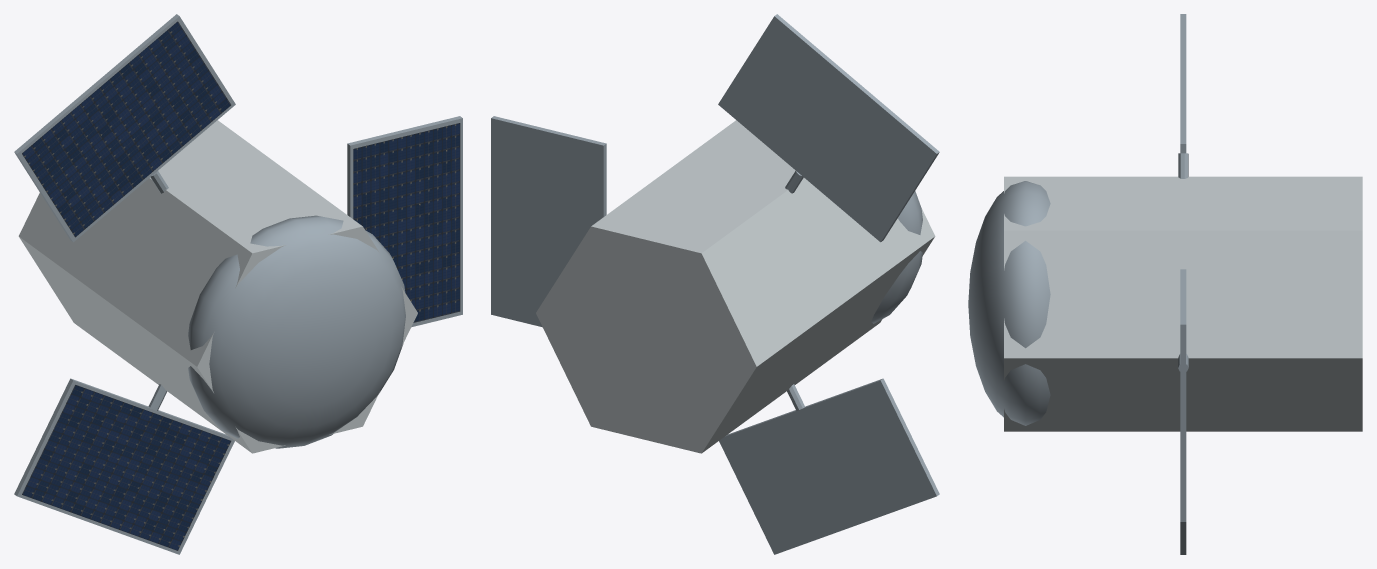
File: ref-hipparcos-20169.glb
3 renders of one model, left to right at view 1: azimuth 30°, elevation 25°; view 2: azimuth 150°, elevation 25°; view 3: azimuth 270°, elevation 25°, orthographic.
Visible parts, largest first — view 1: Photovoltaic laminates (×3), Spacecraft body, Dome, Array frame (×3); view 2: Spacecraft body, Array frame (×3), Dome; view 3: Spacecraft body, Dome, Array frame (×2).
Boxes of the visible parts, x1,y1,x2,y2 form: Photovoltaic laminates (×3): (22, 21, 460, 550); Spacecraft body: (18, 120, 417, 453); Dome: (188, 215, 405, 448); Array frame (×3): (14, 14, 462, 554); Spacecraft body: (536, 120, 935, 453); Array frame (×3): (491, 14, 939, 554); Dome: (871, 191, 922, 323); Spacecraft body: (1004, 176, 1362, 431); Dome: (968, 181, 1050, 425); Array frame (×2): (1180, 14, 1186, 521).
Bounding box in the file's own units: 5.05 × 5.83 × 3.85.
Materials: 3 (1 with a texture image).
